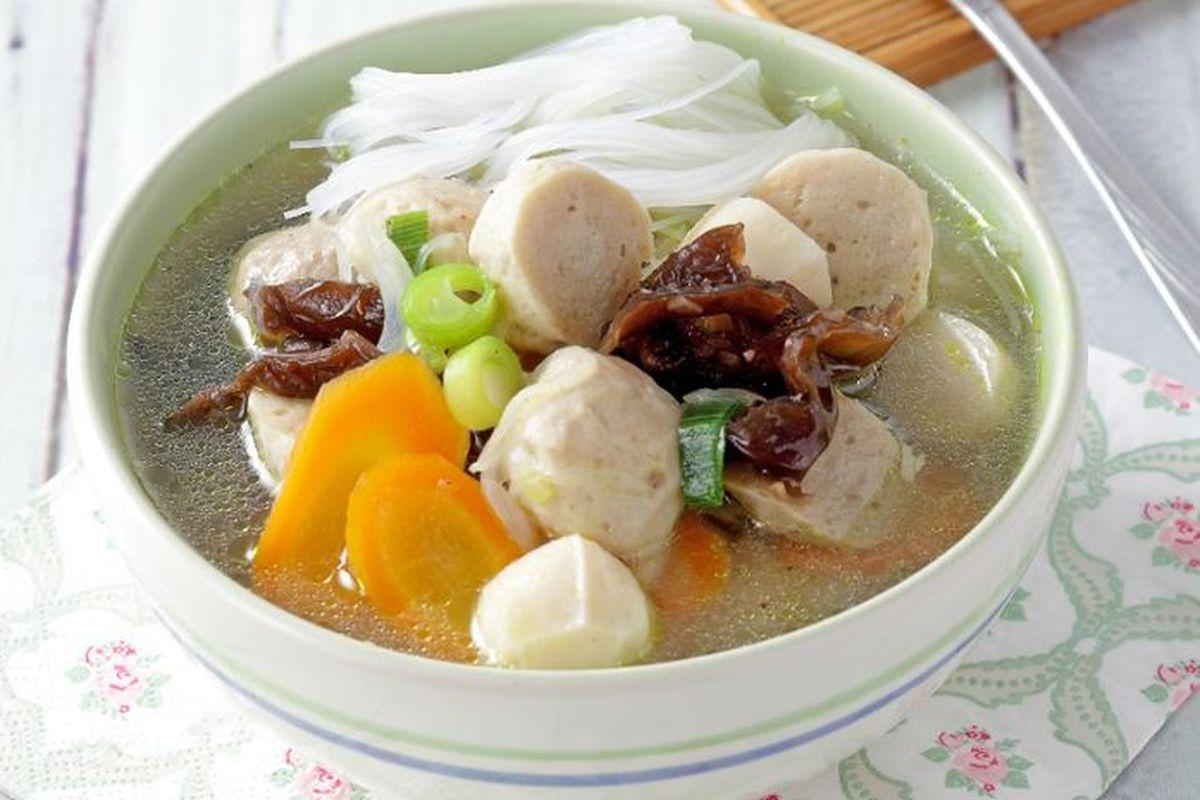buah_sayur_vitA: (304, 393, 449, 592)
daging: (726, 381, 911, 518), (510, 375, 655, 521), (790, 171, 926, 315), (504, 189, 625, 307)
